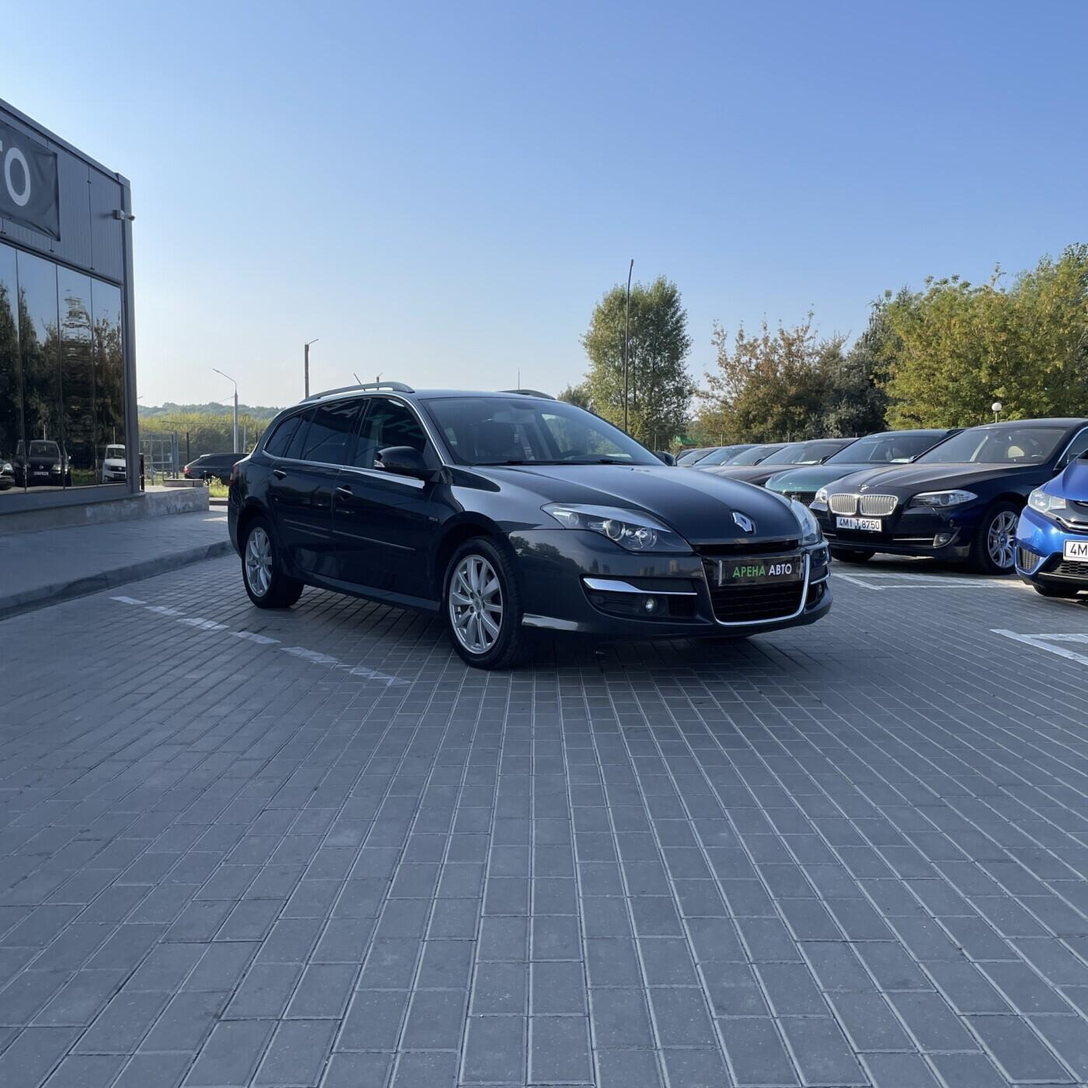Laguna_2010-2015: (224, 384, 847, 684)
